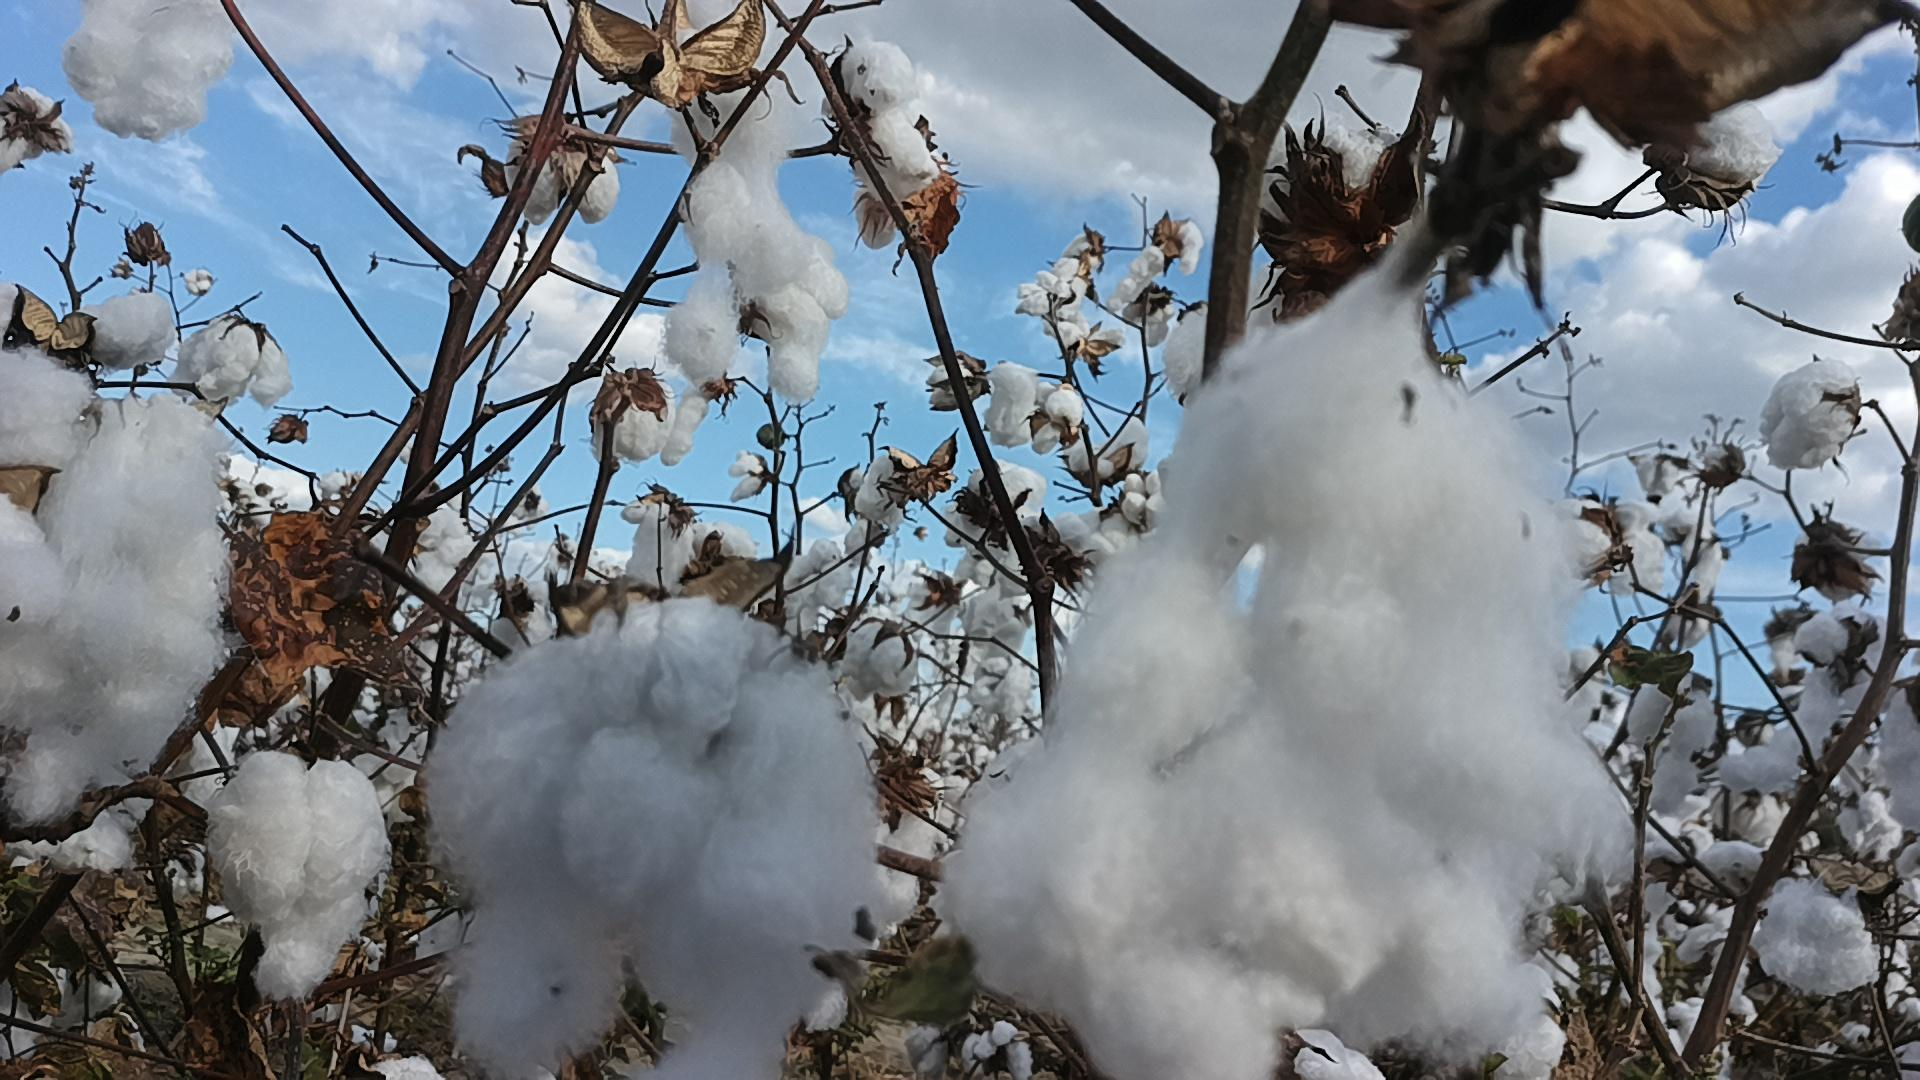cotton_ready: (943, 236, 1638, 1080), (423, 595, 878, 1080), (3, 398, 227, 820), (662, 25, 810, 382), (208, 754, 390, 1005), (1718, 615, 1892, 795), (62, 0, 237, 145), (1162, 262, 1296, 406), (1255, 123, 1407, 237), (840, 38, 943, 207), (0, 289, 96, 464), (862, 728, 939, 936), (1758, 882, 1884, 997), (1444, 964, 1565, 1080), (1756, 352, 1862, 471), (1630, 673, 1718, 814), (799, 916, 893, 1029), (170, 322, 289, 406), (508, 136, 620, 224), (1, 802, 136, 872), (947, 459, 1044, 553), (74, 286, 177, 372), (1109, 222, 1204, 314), (622, 491, 695, 595), (592, 368, 670, 464), (779, 543, 851, 644), (1604, 495, 1671, 599), (0, 82, 74, 174), (1025, 513, 1141, 571), (1793, 527, 1880, 601), (1638, 825, 1762, 877), (841, 616, 919, 698), (1283, 1025, 1386, 1080), (1882, 688, 1920, 835), (410, 505, 472, 593), (1065, 417, 1149, 481), (1555, 496, 1617, 575), (670, 529, 754, 585), (853, 454, 914, 531), (484, 603, 555, 666), (985, 363, 1039, 446), (1015, 251, 1077, 316), (1033, 388, 1081, 458), (926, 353, 978, 410), (1122, 471, 1168, 526), (373, 1056, 447, 1080)
